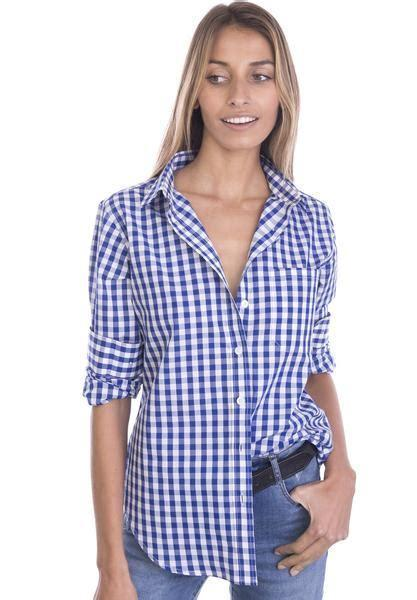shirt: (83, 150, 337, 587)
